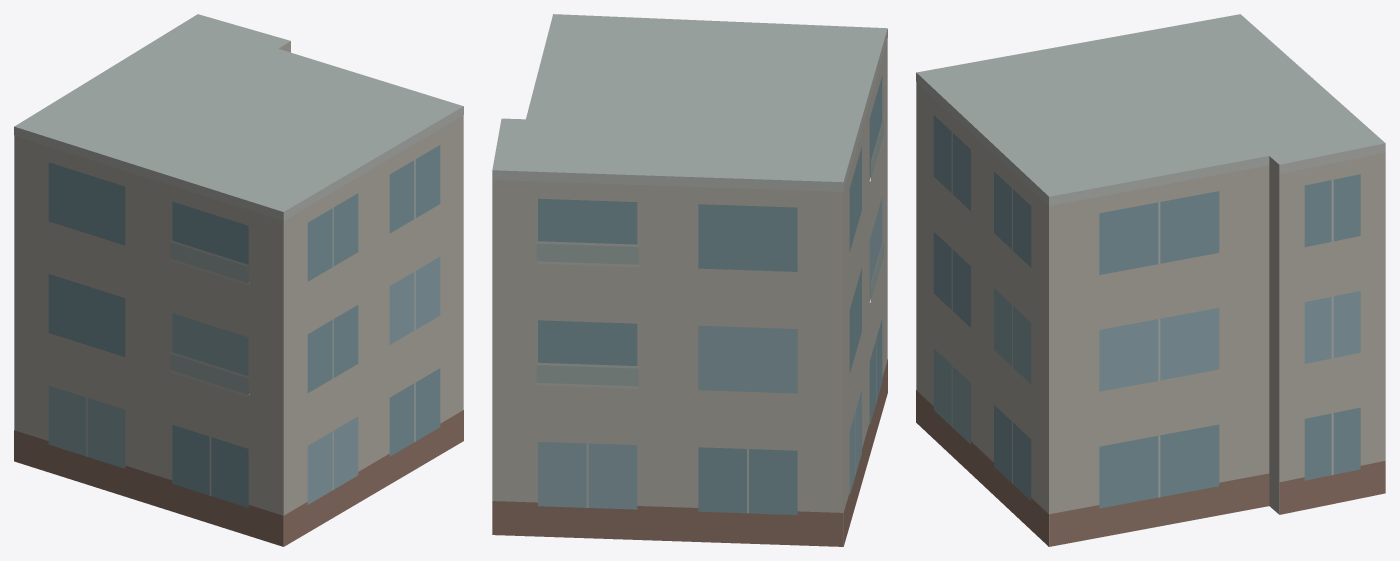
Rendered from survey-upis-32664960.glb.
3 views of the same model, side by side, from view 1: azimuth 30°, elevation 25°; view 2: azimuth 150°, elevation 25°; view 3: azimuth 270°, elevation 25° (orthographic). The views are drawn at different scales.
Visible parts, largest first — view 1: survey-upis-32664960.tmp; view 2: survey-upis-32664960.tmp; view 3: survey-upis-32664960.tmp.
Boxes of the visible parts, x1,y1,x2,y2 form: survey-upis-32664960.tmp: (14,14,463,546); survey-upis-32664960.tmp: (492,14,887,546); survey-upis-32664960.tmp: (916,14,1385,546).
Size of the model in its own units: 10.25 by 9.15 by 11.13.
